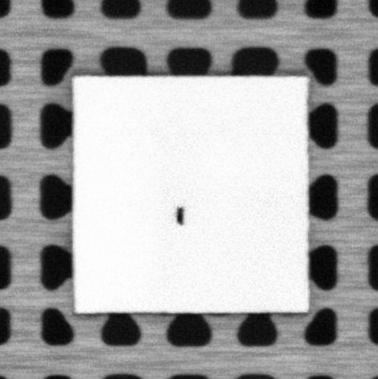DIE_INK: (174, 204, 188, 227)
